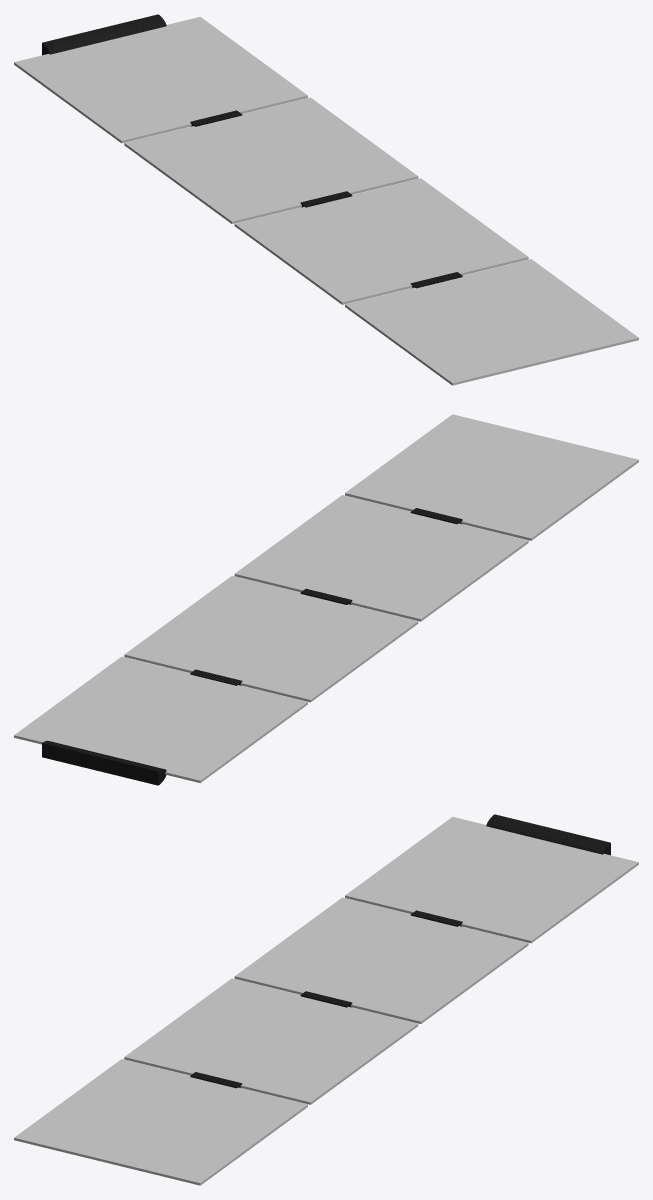
Rendered from Solar Panels.fbx.
3 renders of one model, top to bottom at view 1: azimuth 30°, elevation 25°; view 2: azimuth 150°, elevation 25°; view 3: azimuth 330°, elevation 25°, orthographic.
Parts seen in each view (by area): view 1: pCube2, pCube3, pCube4, pCube5, pCylinder1; view 2: pCube2, pCube4, pCube3, pCube5, pCylinder1; view 3: pCube2, pCube3, pCube4, pCube5, pCylinder1.
Boxes of the visible parts, x1,y1,x2,y2 form: pCube2: [345, 259, 638, 385]; pCube3: [234, 178, 528, 304]; pCube4: [124, 97, 418, 223]; pCube5: [14, 16, 307, 143]; pCylinder1: [42, 14, 166, 55]; pCube2: [345, 414, 638, 540]; pCube4: [124, 576, 418, 702]; pCube3: [234, 495, 528, 621]; pCube5: [14, 656, 307, 783]; pCylinder1: [42, 740, 166, 785]; pCube2: [14, 1059, 307, 1185]; pCube3: [124, 978, 418, 1104]; pCube4: [234, 897, 528, 1023]; pCube5: [345, 816, 638, 943]; pCylinder1: [486, 814, 610, 855].
Size of the model in its own units: 4 by 0.2913 by 16.56.
